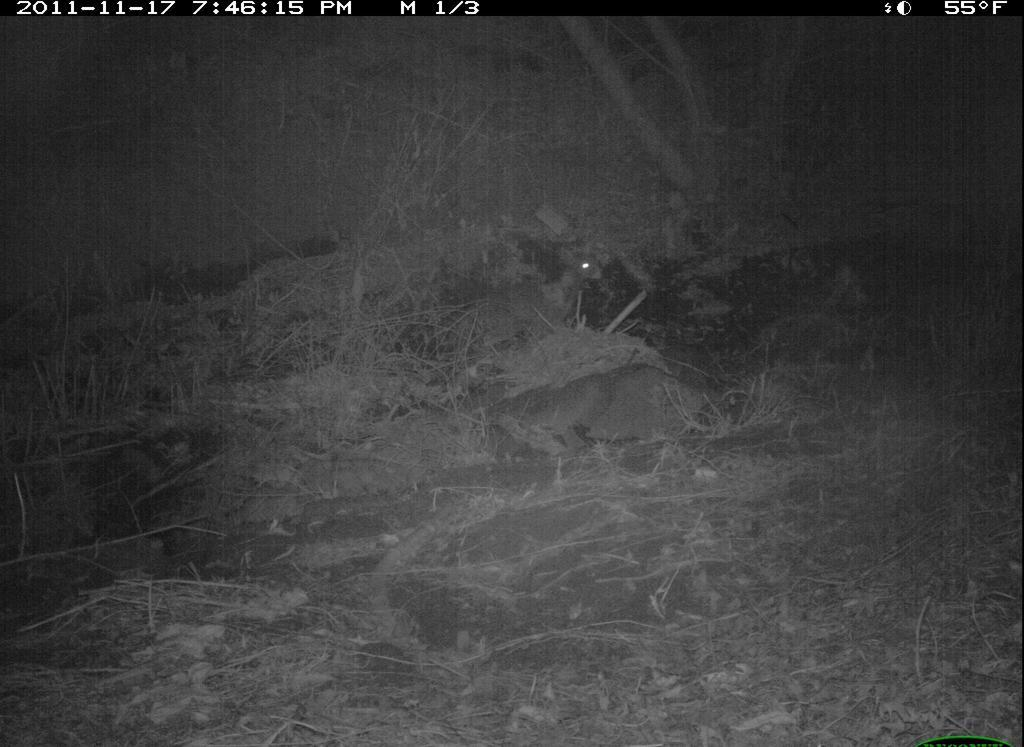coyote: (465, 236, 615, 372)
